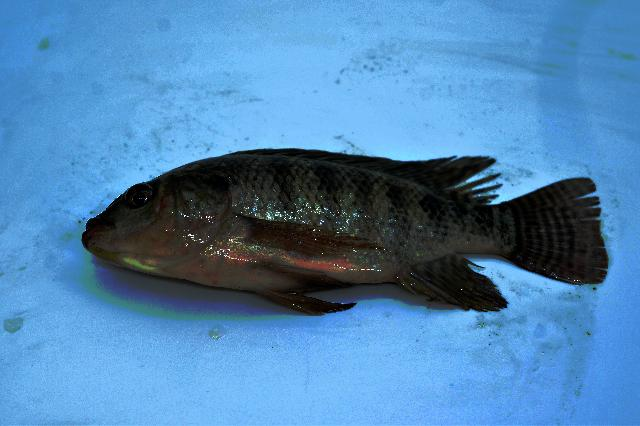Columnaris Disease: (82, 149, 607, 315)
